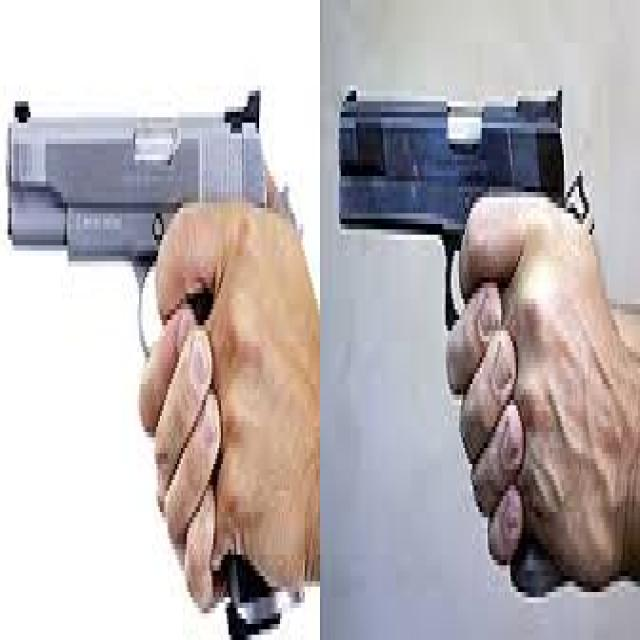pistol: (4, 64, 282, 629), (341, 48, 589, 587)
